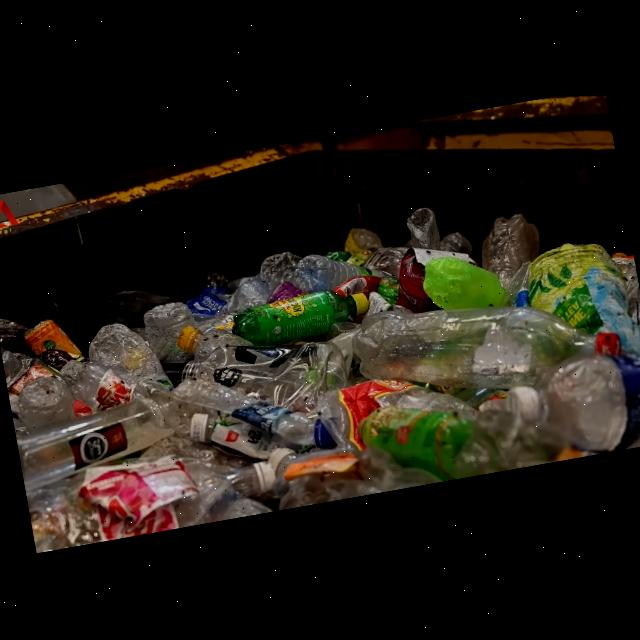trash: (350, 271, 628, 415), (166, 350, 344, 472), (11, 382, 185, 493), (497, 344, 640, 468), (352, 390, 500, 494), (227, 282, 375, 352), (82, 313, 175, 405), (418, 245, 514, 321), (472, 208, 548, 288), (288, 241, 390, 299), (12, 372, 82, 442), (138, 297, 204, 371), (386, 244, 449, 319), (18, 311, 88, 378), (172, 312, 256, 364), (403, 203, 442, 255)
